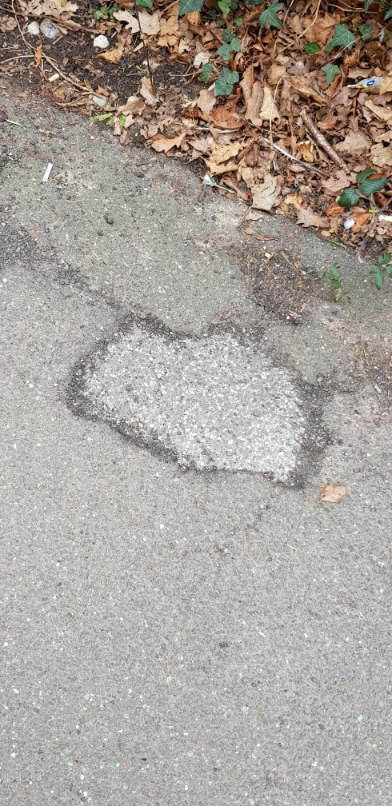pothole: (64, 307, 329, 498)
